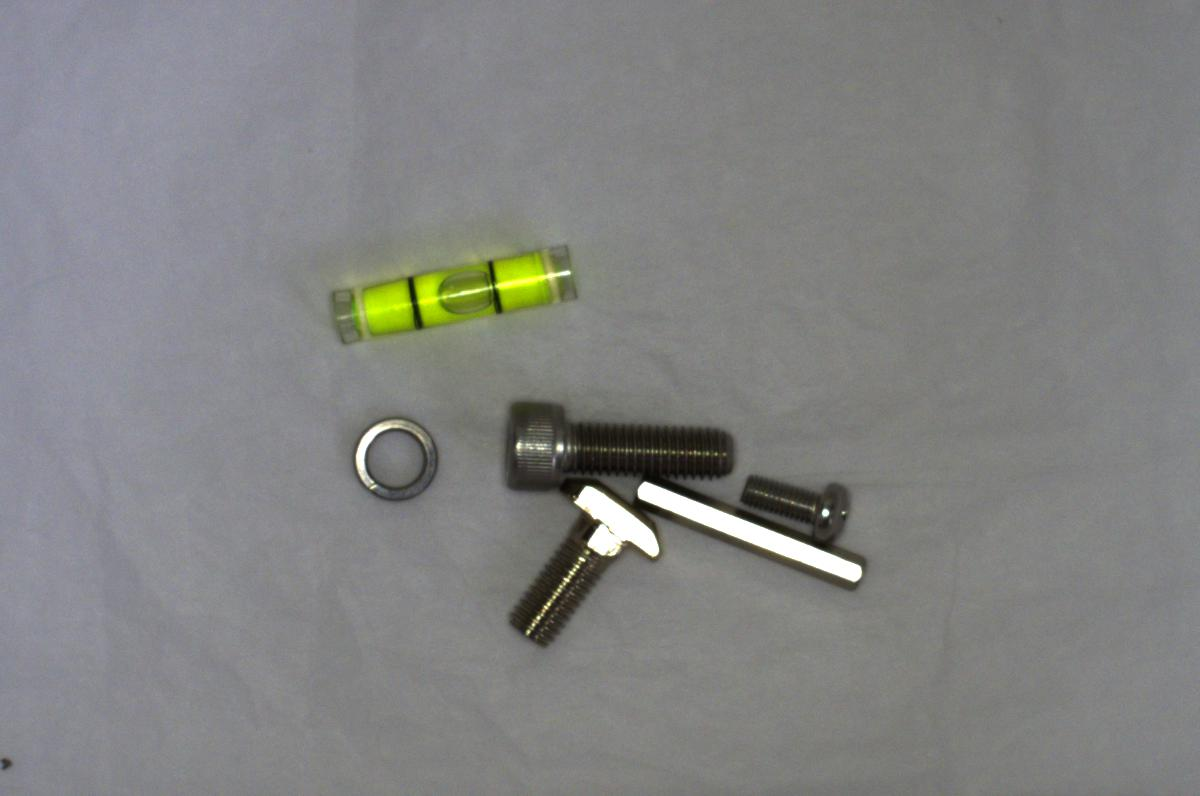Double hexagonal column: (633, 474, 868, 598)
Hexagon screw: (491, 383, 747, 487)
Horizontal bubble: (313, 235, 587, 343)
Round head screw: (724, 469, 864, 541)
Spring washer: (345, 412, 448, 515)
T-shaped screw: (485, 481, 665, 653)
